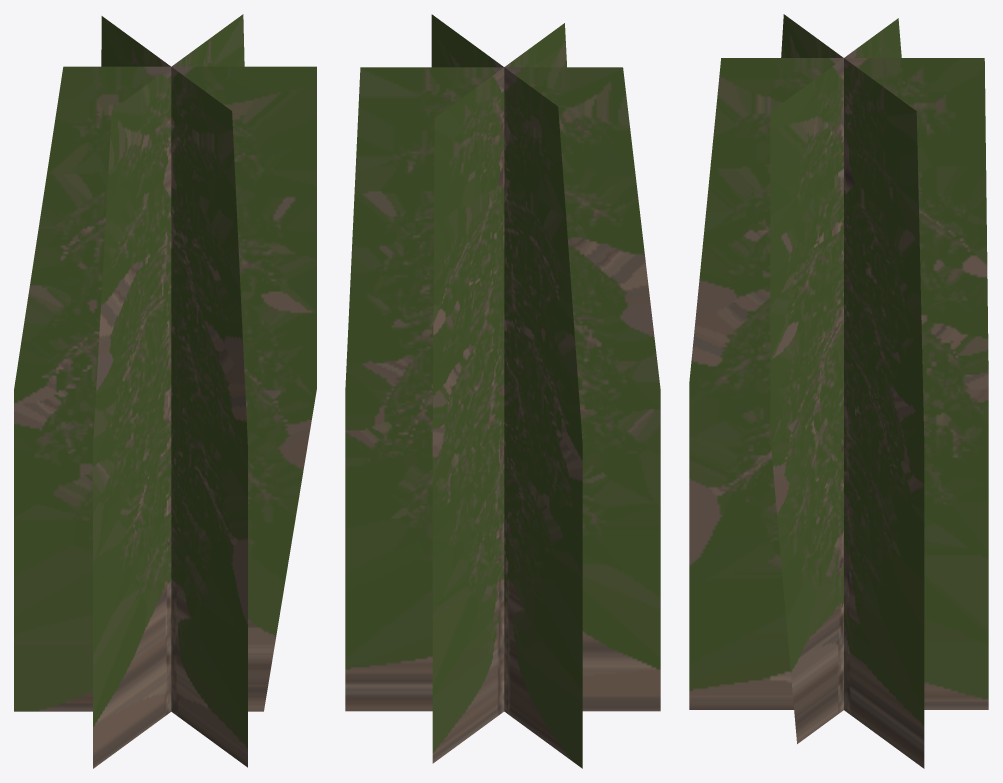
Rendered from spruce_tree_b_billboard.fbx.
3 renders of one model, left to right at view 1: azimuth 30°, elevation 25°; view 2: azimuth 150°, elevation 25°; view 3: azimuth 270°, elevation 25°, orthographic.
Parts seen in each view (by area): view 1: Billboard; view 2: Billboard; view 3: Billboard.
Part boxes in pixels (box(x1,y1,x2,y2)): Billboard: box(14, 14, 316, 768); Billboard: box(345, 14, 660, 768); Billboard: box(689, 14, 988, 768).
Size of the model in its own units: 325 by 843 by 351.
